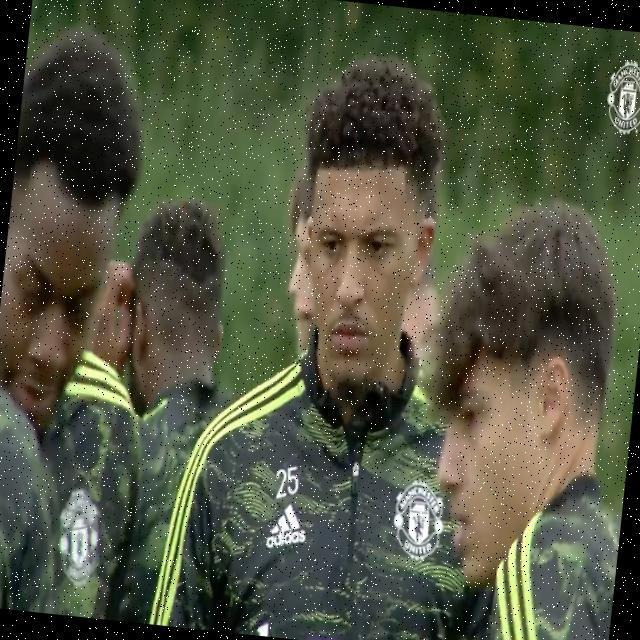Adidas: (265, 502, 310, 554)
